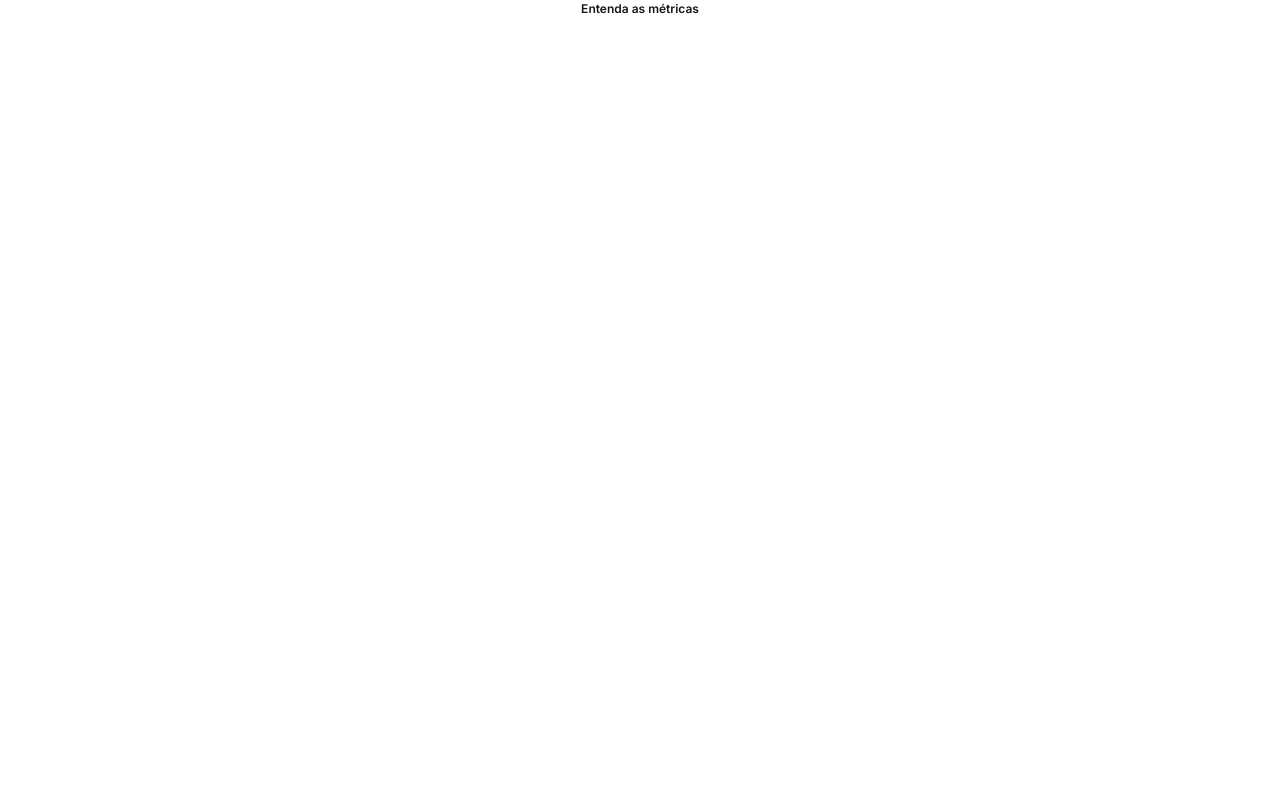
Test case: Glossario › fecha com ESC
Click the button "Entenda as métricas": (640, 9) x1=0 y1=0 x2=1279 y2=18
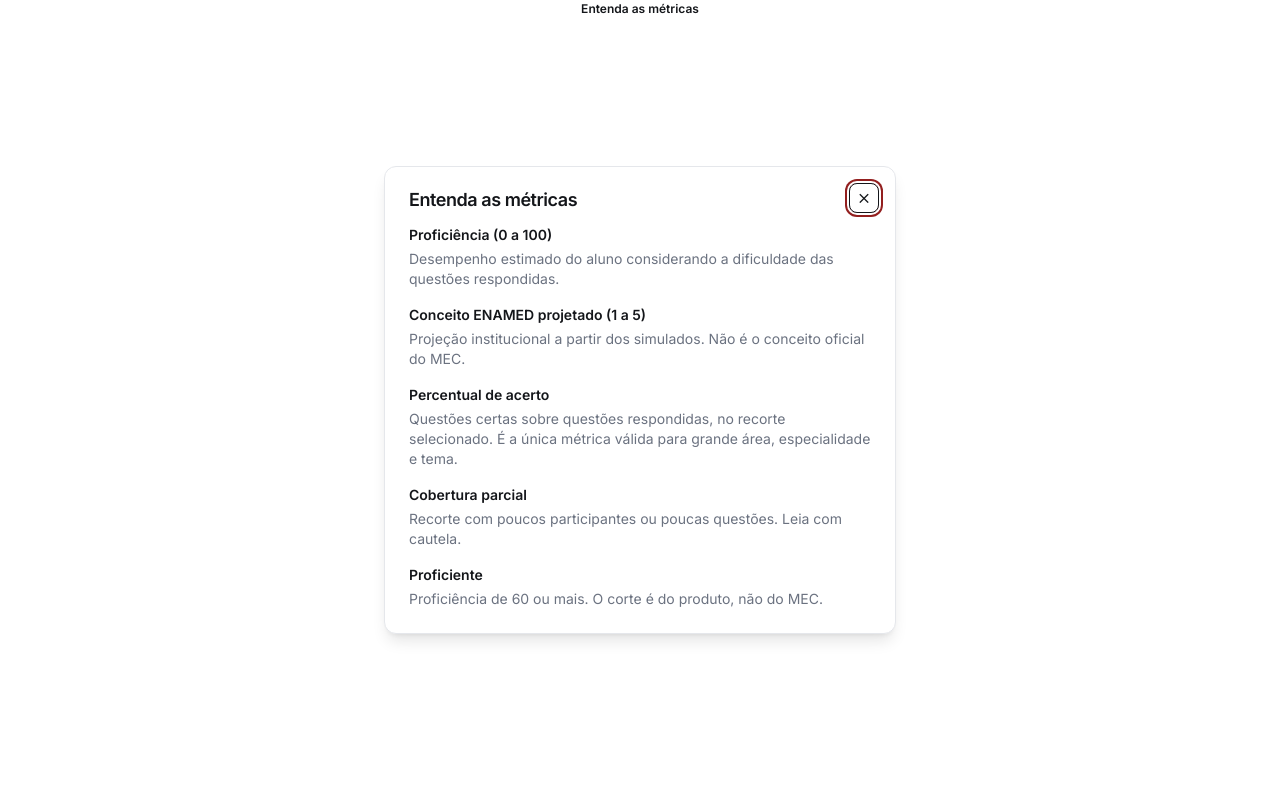
Now the dialog is shown, box x1=384 y1=166 x2=896 y2=634
Press Escape
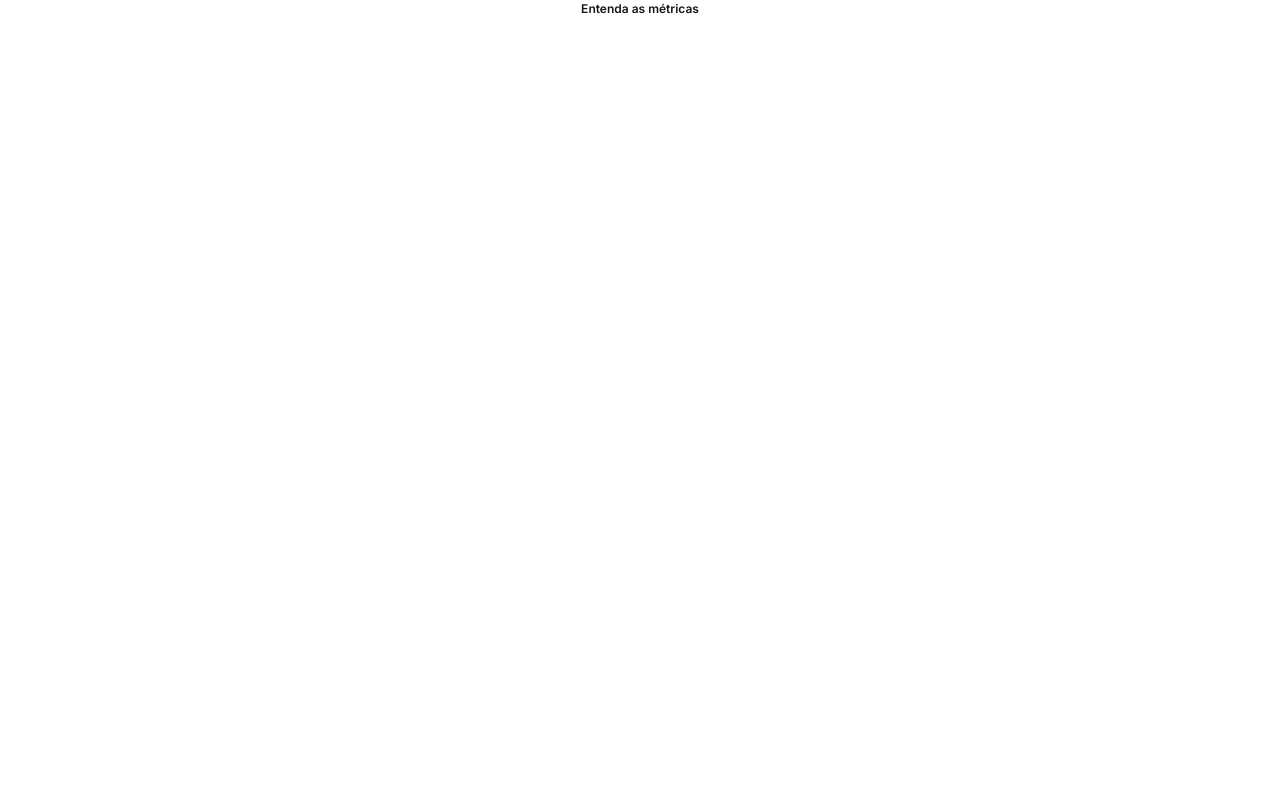
Now the dialog is gone
